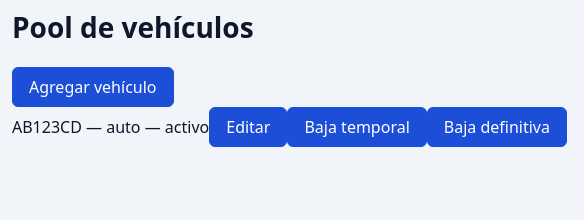
Test: VehiculosAdminPage › muestra el mensaje específico de reservas activas en un 409, no el genérico anterior
Expected: the text "AB123CD — auto — activo" is shown, x1=12 y1=116 x2=209 y2=138
Click the button "Baja temporal" at (357, 126), box x1=288 y1=106 x2=427 y2=146
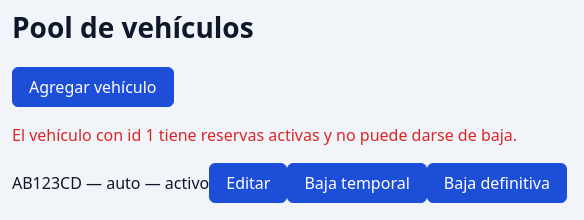
Expected: the message does not show "operación no es válida para el estado actual", x1=12 y1=124 x2=517 y2=146
Expected: the message reads "El vehículo con id 1 tiene reservas activas y no puede darse de baja.", x1=12 y1=124 x2=517 y2=146
